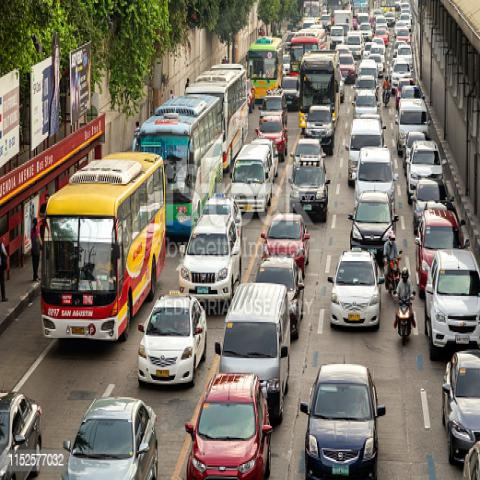bus: (39, 151, 166, 345), (135, 99, 223, 232), (218, 286, 290, 416), (187, 68, 248, 174), (230, 141, 273, 213), (302, 54, 338, 126), (246, 36, 281, 102)
car: (303, 364, 385, 479), (187, 370, 272, 478), (66, 398, 160, 478), (138, 293, 206, 384), (427, 248, 479, 360), (182, 217, 240, 304), (0, 387, 48, 479), (441, 351, 479, 463), (332, 253, 382, 334), (414, 209, 458, 291), (352, 192, 397, 262), (266, 210, 310, 267), (357, 144, 395, 204), (292, 159, 328, 218), (409, 141, 442, 196), (398, 94, 429, 152), (255, 112, 288, 152)
motorcycle: (395, 296, 414, 345), (386, 254, 402, 293)
